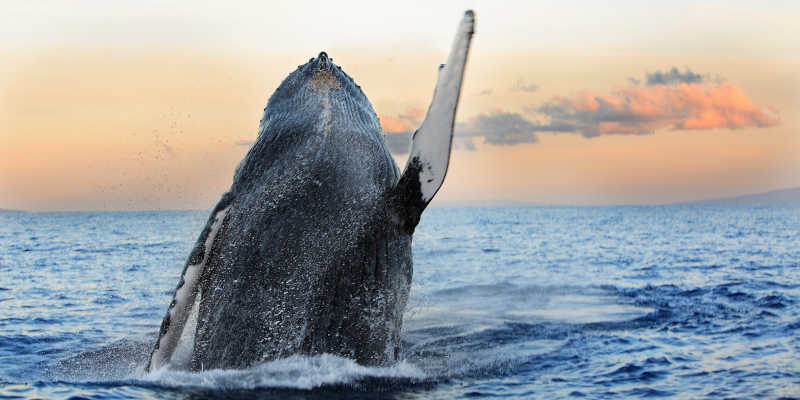fish: (156, 7, 478, 400)
